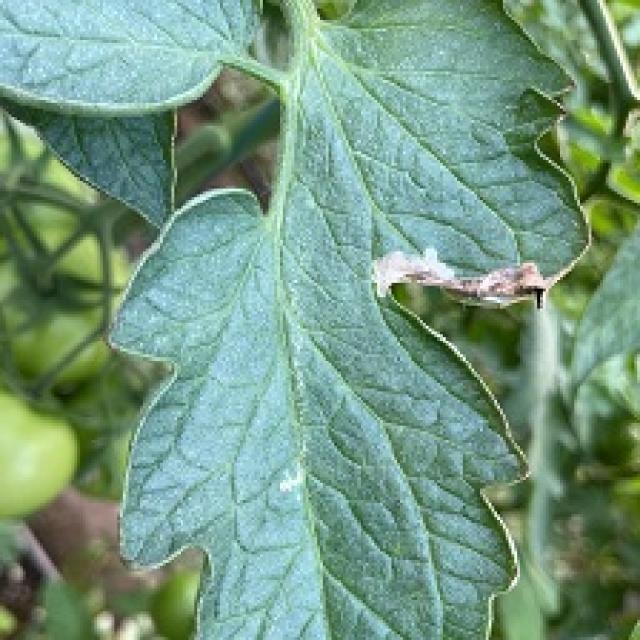Tuta absoluta: (374, 243, 553, 310)
